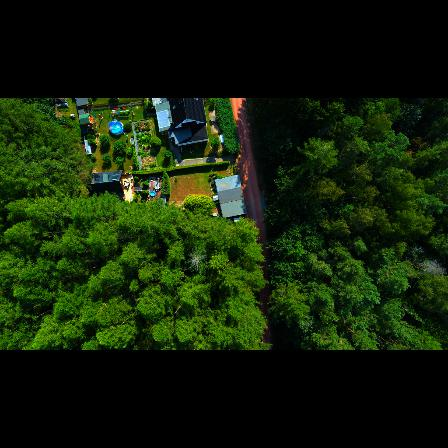Dead: (182, 248, 210, 271), (418, 259, 445, 278)
